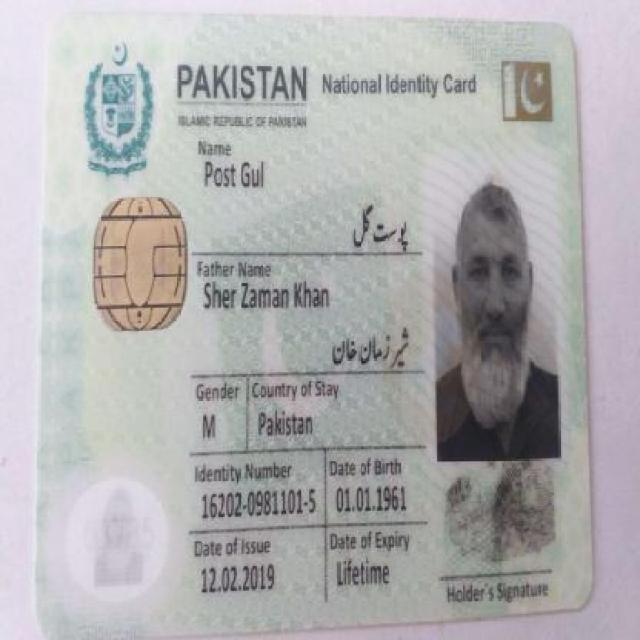Front: (29, 12, 597, 623)
